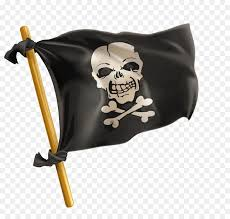Jolly Roger Flag: (21, 24, 202, 167)
